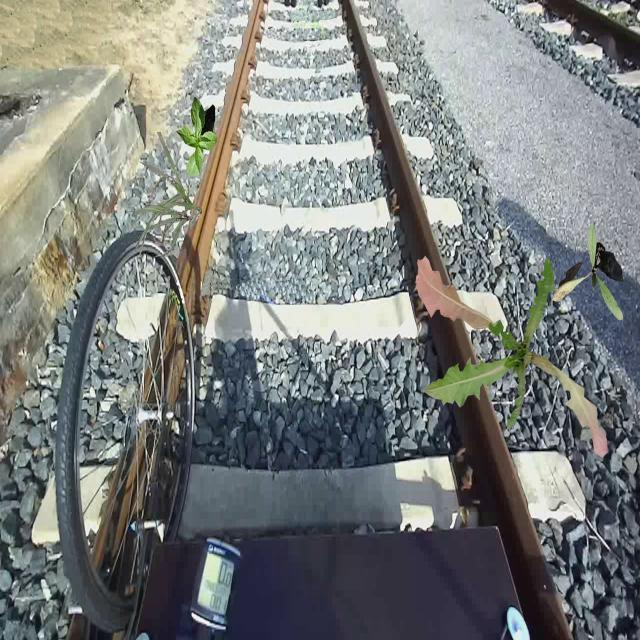Plant: (415, 255, 608, 458), (129, 132, 202, 256), (552, 221, 624, 320), (176, 97, 218, 177)
